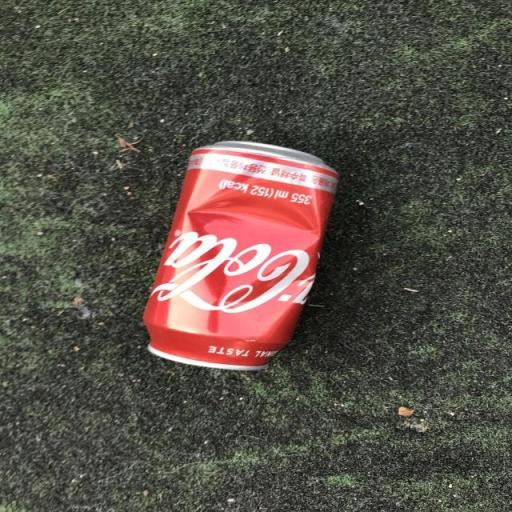metal: (132, 130, 389, 426)
